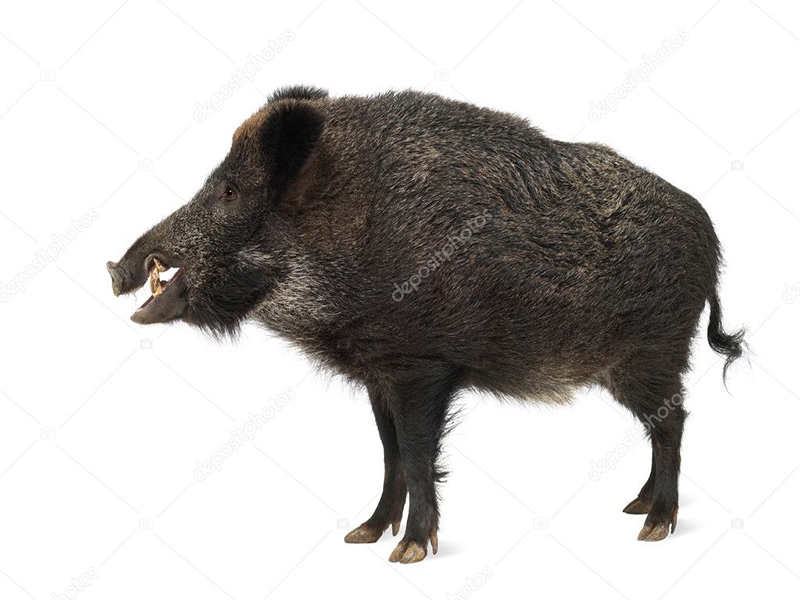cinghiale: (86, 77, 719, 551)
